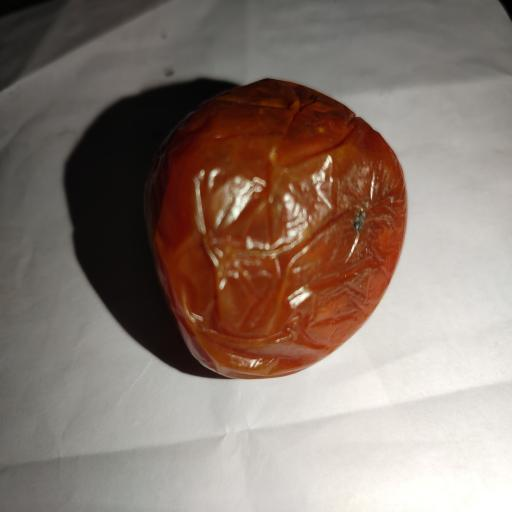spoiled: (146, 79, 407, 378)
